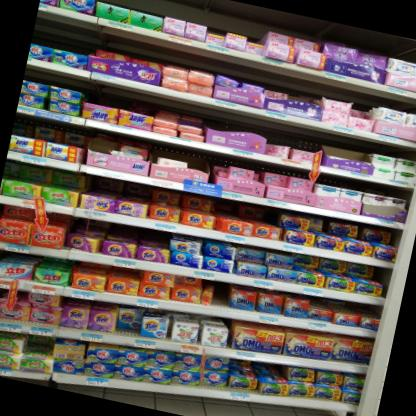empty_space: (323, 136, 375, 170), (207, 280, 235, 311)
